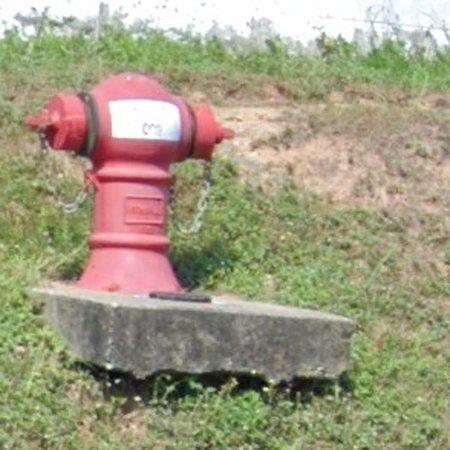a fire hydrant: (26, 73, 235, 293)
